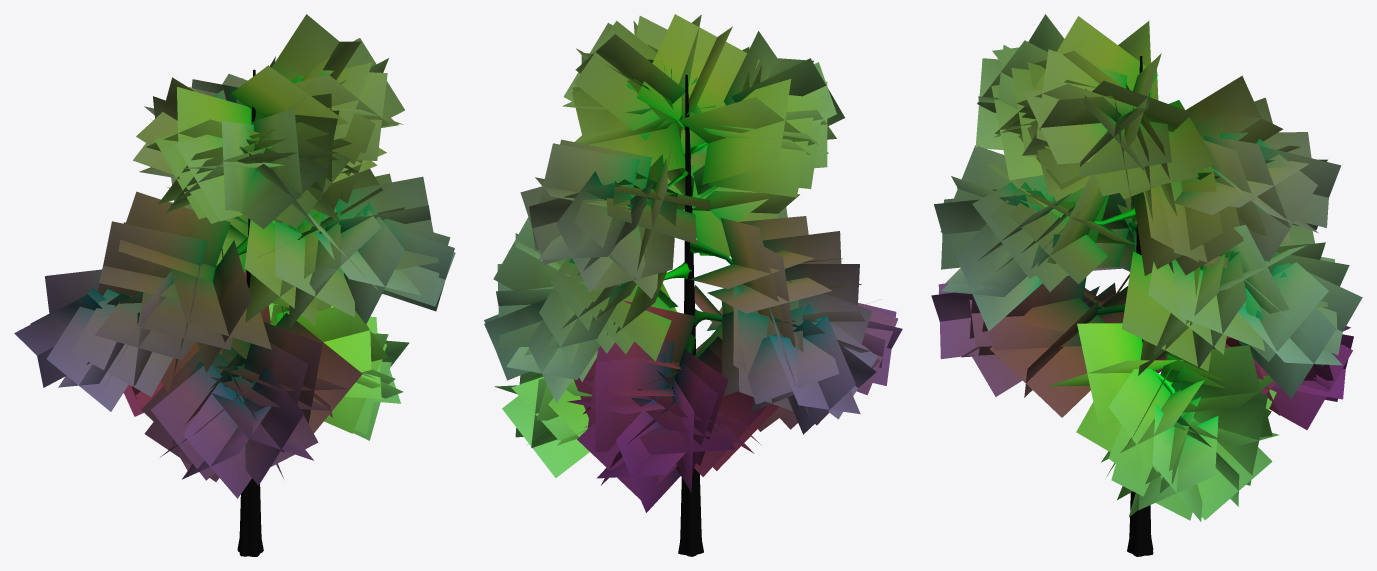
The model's file is URP_P14_Tree_2_LOD_1.fbx.
3 renders of one model, left to right at view 1: azimuth 30°, elevation 25°; view 2: azimuth 150°, elevation 25°; view 3: azimuth 270°, elevation 25°, orthographic. The views are drawn at different scales.
Visible parts, largest first — view 1: Tree_2_LOD_1; view 2: Tree_2_LOD_1; view 3: Tree_2_LOD_1.
Boxes of the visible parts, x1,y1,x2,y2 form: Tree_2_LOD_1: (14,14,455,556); Tree_2_LOD_1: (484,14,902,556); Tree_2_LOD_1: (931,14,1362,556).
Bounding box in the file's own units: 415 × 556 × 409.
